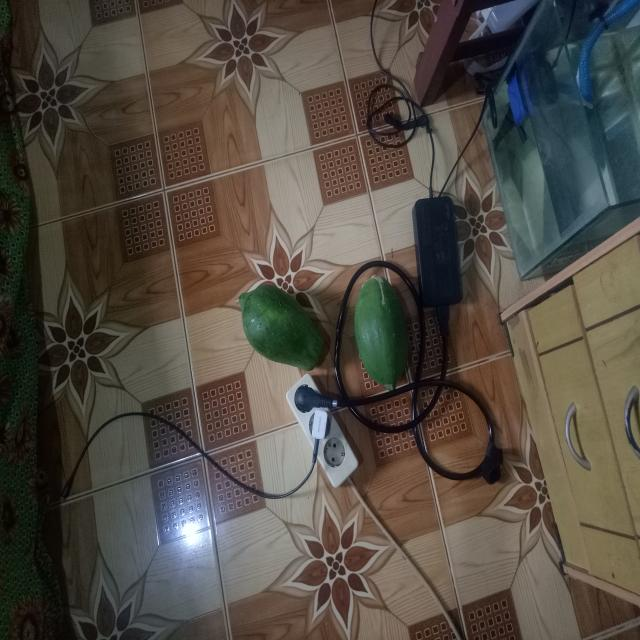Pepaya unrippen: (350, 274, 418, 407), (237, 289, 331, 378)
